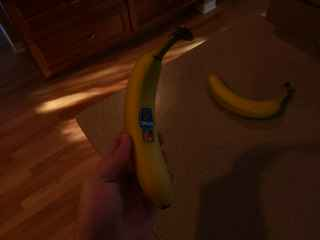banana: (110, 24, 200, 215), (206, 60, 297, 123)
